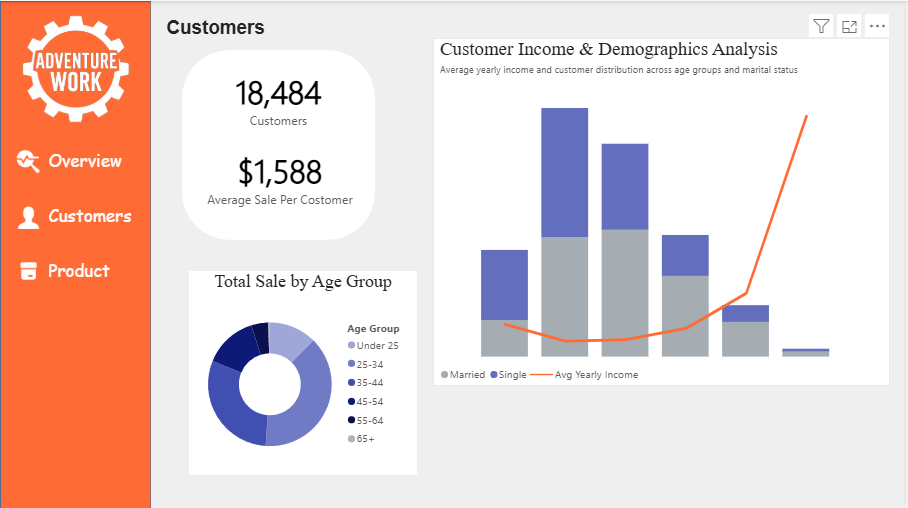

What the dashboard file says about the page in this screenshot:
{"tool":"powerbi","page":{"name":"Customers","canvas":[1280,720],"ordinal":1},"visuals":[{"type":"group","id":"g1","title":"navigate","box":[0,0,214.5,720.2],"z":0},{"type":"shape","box":[0,0,214.4,720.2],"z":0,"group":"g1"},{"type":"shape","box":[258,69.4,273.5,269.3],"z":1000},{"type":"textbox","box":[63.9,204.5,134.2,46.9],"z":1000,"group":"g1"},{"type":"image","box":[0,0,214.4,193.1],"z":2000,"group":"g1"},{"type":"card","fields":{"Values":["factSales.Total Customers"]},"box":[286.3,85,216.9,106.3],"z":2000},{"type":"textbox","box":[230.7,18.8,165.8,42.7],"z":3000},{"type":"textbox","box":[63.8,360.1,134.2,47.5],"z":3000,"group":"g1"},{"type":"card","fields":{"Values":["factSales.Sales Per Costomer"]},"box":[267.9,197,258,106.3],"z":4000},{"type":"image","box":[16.4,356.8,47.5,50.7],"z":4000,"group":"g1"},{"type":"textbox","box":[64.4,281.7,150.2,47.2],"z":5000,"group":"g1"},{"type":"donutChart","title":"Total Sale by Age Group","fields":{"Category":["factSales.Age Group At Purchase"],"Y":["factSales.Total Sales"]},"box":[267.9,382.7,323.1,289.1],"z":5000},{"type":"lineStackedColumnComboChart","title":"Customer Income & Demographics Analysis","fields":{"Y":["factSales.Total Customers"],"Category":["factSales.Age Group At Purchase"],"Series":["dimCustomers.MaritalStatus"],"Y2":["dimCustomers.Avg Yearly Income by Age Group"]},"box":[613.7,52.4,647.7,493.2],"z":6000},{"type":"image","box":[16.4,281.5,47.5,50.7],"z":6000,"group":"g1"},{"type":"actionButton","box":[0,193.1,214.5,68.6],"z":7000},{"type":"image","box":[16.4,203,47.5,50.7],"z":7000,"group":"g1"},{"type":"actionButton","box":[0,278.9,214.5,52.9],"z":8000},{"type":"actionButton","box":[0,354.7,214.5,52.9],"z":9000}]}

Visuals, with their boxes on the page's 1280x720 design canvas (x1, y1, x2, y2). These are canvas units, not pixel positions in the 908x508 screenshot, which may show the page scaled, cropped or inside an application window:
"navigate" group: (x1=0, y1=0, x2=214, y2=720)
shape: (x1=0, y1=0, x2=214, y2=720)
shape: (x1=258, y1=69, x2=532, y2=339)
textbox: (x1=64, y1=204, x2=198, y2=251)
image: (x1=0, y1=0, x2=214, y2=193)
card - factSales.Total Customers: (x1=286, y1=85, x2=503, y2=191)
textbox: (x1=231, y1=19, x2=396, y2=62)
textbox: (x1=64, y1=360, x2=198, y2=408)
card - factSales.Sales Per Costomer: (x1=268, y1=197, x2=526, y2=303)
image: (x1=16, y1=357, x2=64, y2=408)
textbox: (x1=64, y1=282, x2=215, y2=329)
"Total Sale by Age Group" donutChart: (x1=268, y1=383, x2=591, y2=672)
"Customer Income & Demographics Analysis" lineStackedColumnComboChart: (x1=614, y1=52, x2=1261, y2=546)
image: (x1=16, y1=282, x2=64, y2=332)
actionButton: (x1=0, y1=193, x2=214, y2=262)
image: (x1=16, y1=203, x2=64, y2=254)
actionButton: (x1=0, y1=279, x2=214, y2=332)
actionButton: (x1=0, y1=355, x2=214, y2=408)
